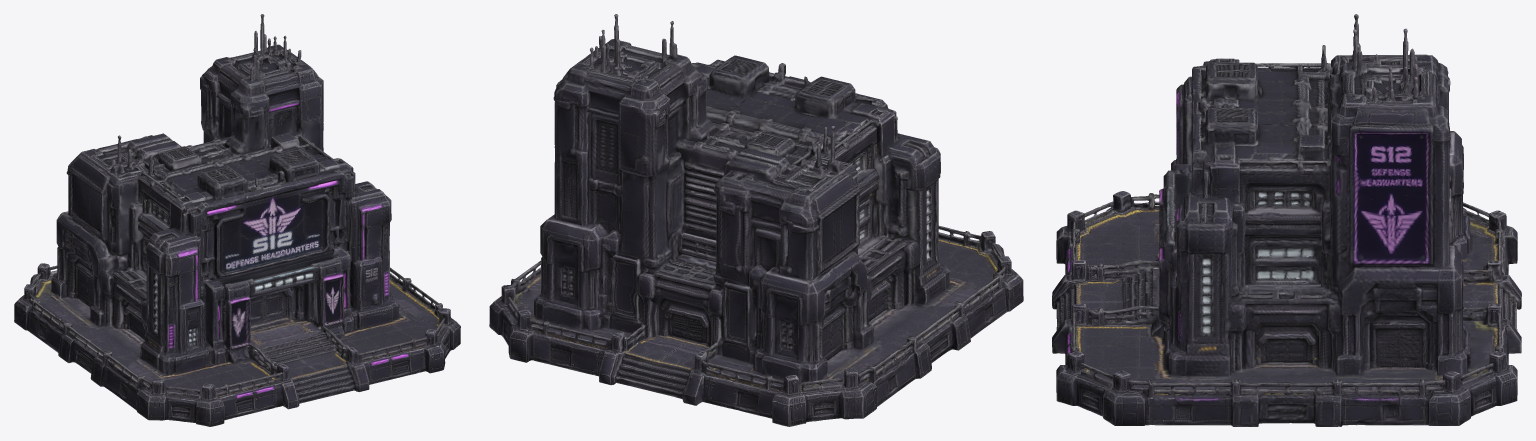
File: s12DefenseHeadquarters_LOD2.glb
3 views of the same model, side by side, from view 1: azimuth 30°, elevation 25°; view 2: azimuth 150°, elevation 25°; view 3: azimuth 270°, elevation 25° (orthographic). The views are drawn at different scales.
Visible parts, largest first — view 1: Mesh_0.008; view 2: Mesh_0.008; view 3: Mesh_0.008.
Part boxes in pixels (x1,y1,x2,y2): Mesh_0.008: [14, 14, 460, 426]; Mesh_0.008: [489, 14, 1023, 426]; Mesh_0.008: [1052, 14, 1521, 426].
Size of the model in its own units: 1.9 by 1.54 by 1.9.
1 material, 1 textured.
